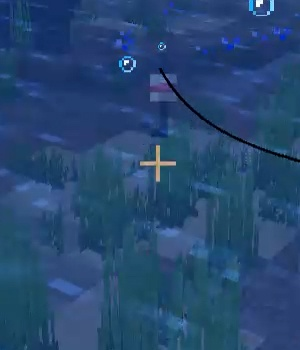down: (140, 64, 183, 139)
